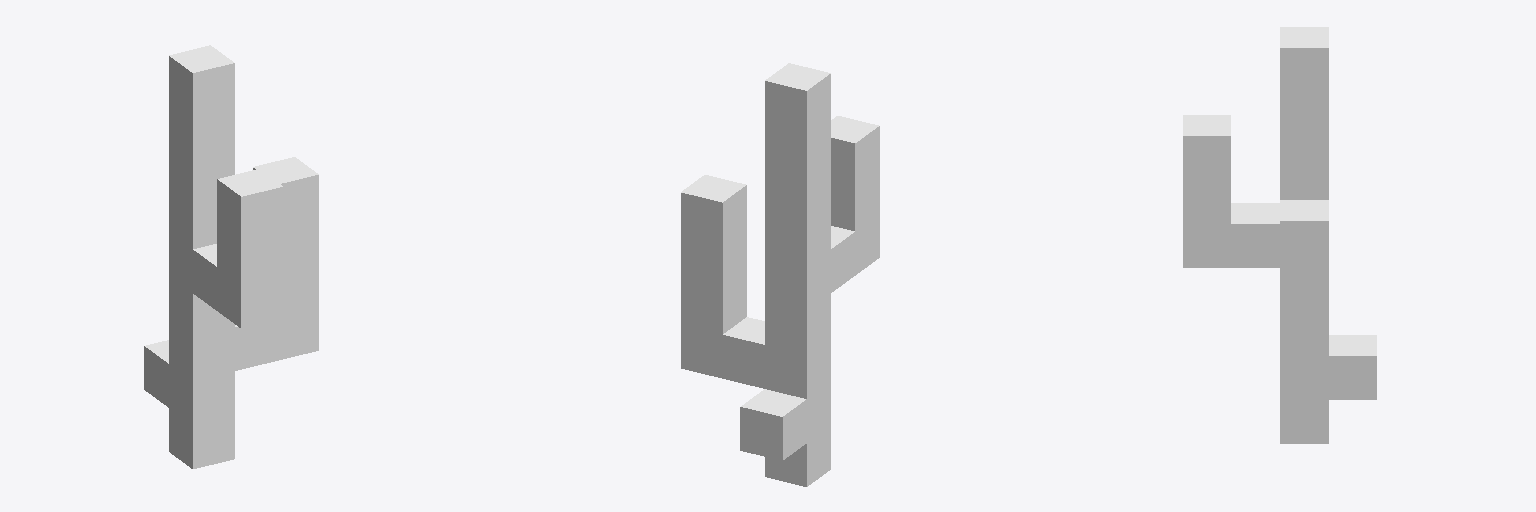
The model's file is Kaktus.obj.
The picture shows the model from 3 angles: view 1: azimuth 30°, elevation 25°; view 2: azimuth 150°, elevation 25°; view 3: azimuth 270°, elevation 25°; orthographic projection.
Bounding box in the file's own units: 3 × 9 × 4.